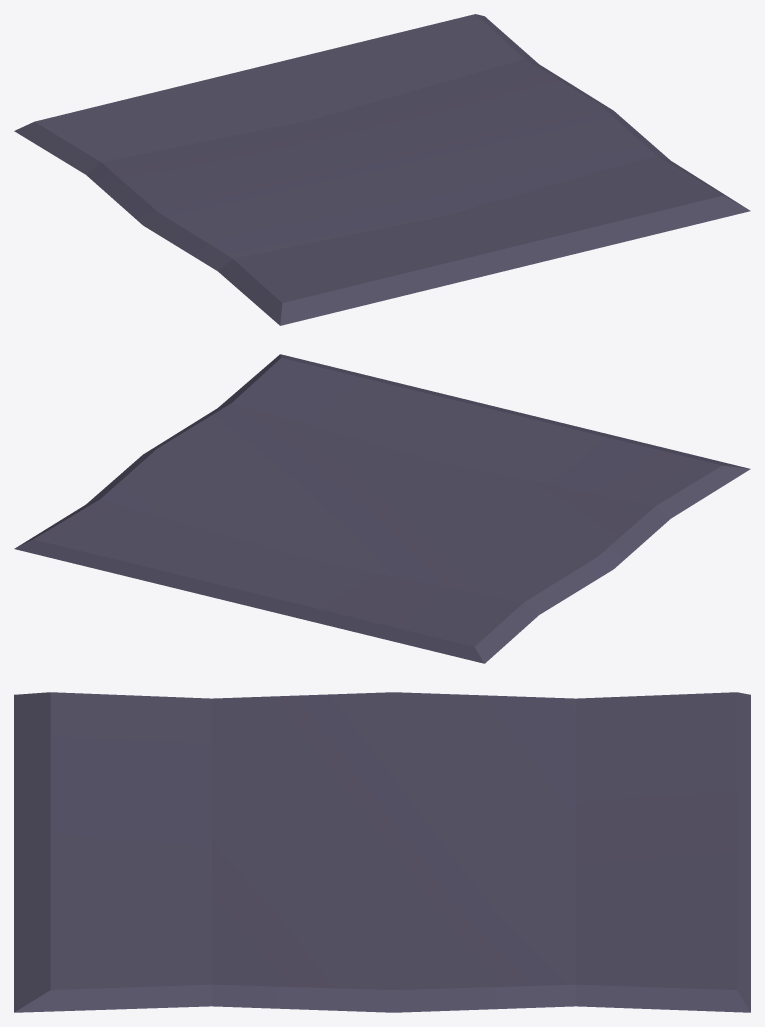
Rendered from Field.fbx.
The picture shows the model from 3 angles, top to bottom: view 1: azimuth 30°, elevation 25°; view 2: azimuth 150°, elevation 25°; view 3: azimuth 270°, elevation 25°; orthographic projection. The views are drawn at different scales.
Visible parts, largest first — view 1: pCube13; view 2: pCube13; view 3: pCube13.
Boxes of the visible parts, bbox=[...] form: pCube13: bbox=[14, 14, 750, 325]; pCube13: bbox=[14, 354, 750, 663]; pCube13: bbox=[14, 692, 750, 1012].
Bounding box in the file's own units: 3792 × 72.35 × 3714.
